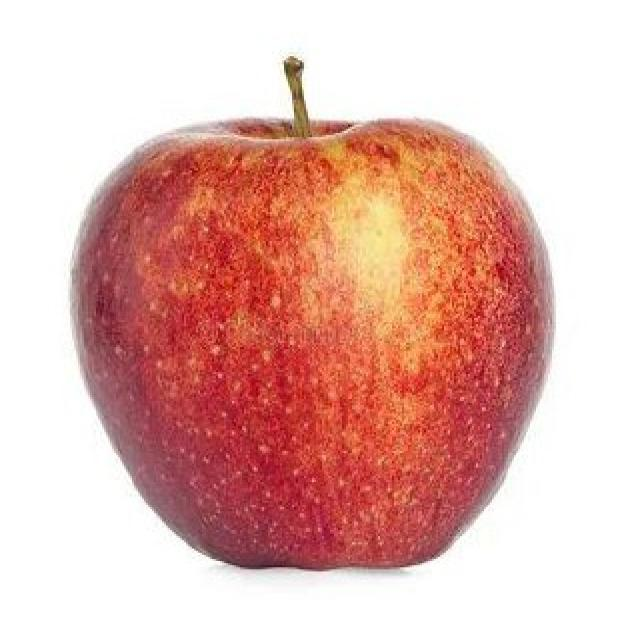Healty Apple: (68, 117, 556, 568)
